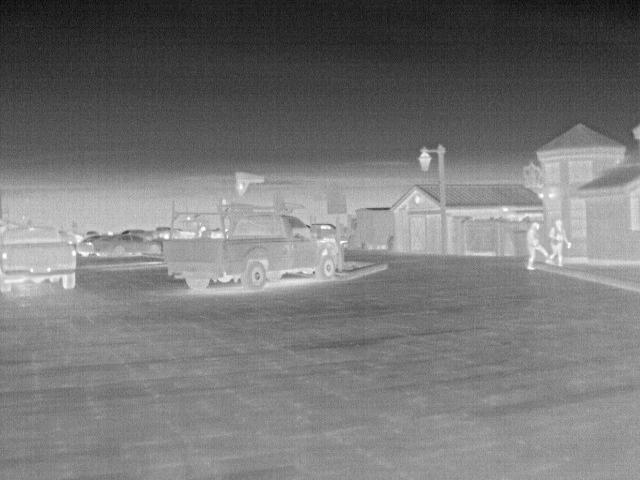car: (161, 209, 343, 294), (1, 225, 80, 294), (96, 235, 159, 260), (75, 236, 106, 259), (310, 221, 339, 238)
person: (544, 218, 573, 268), (524, 219, 550, 270)
